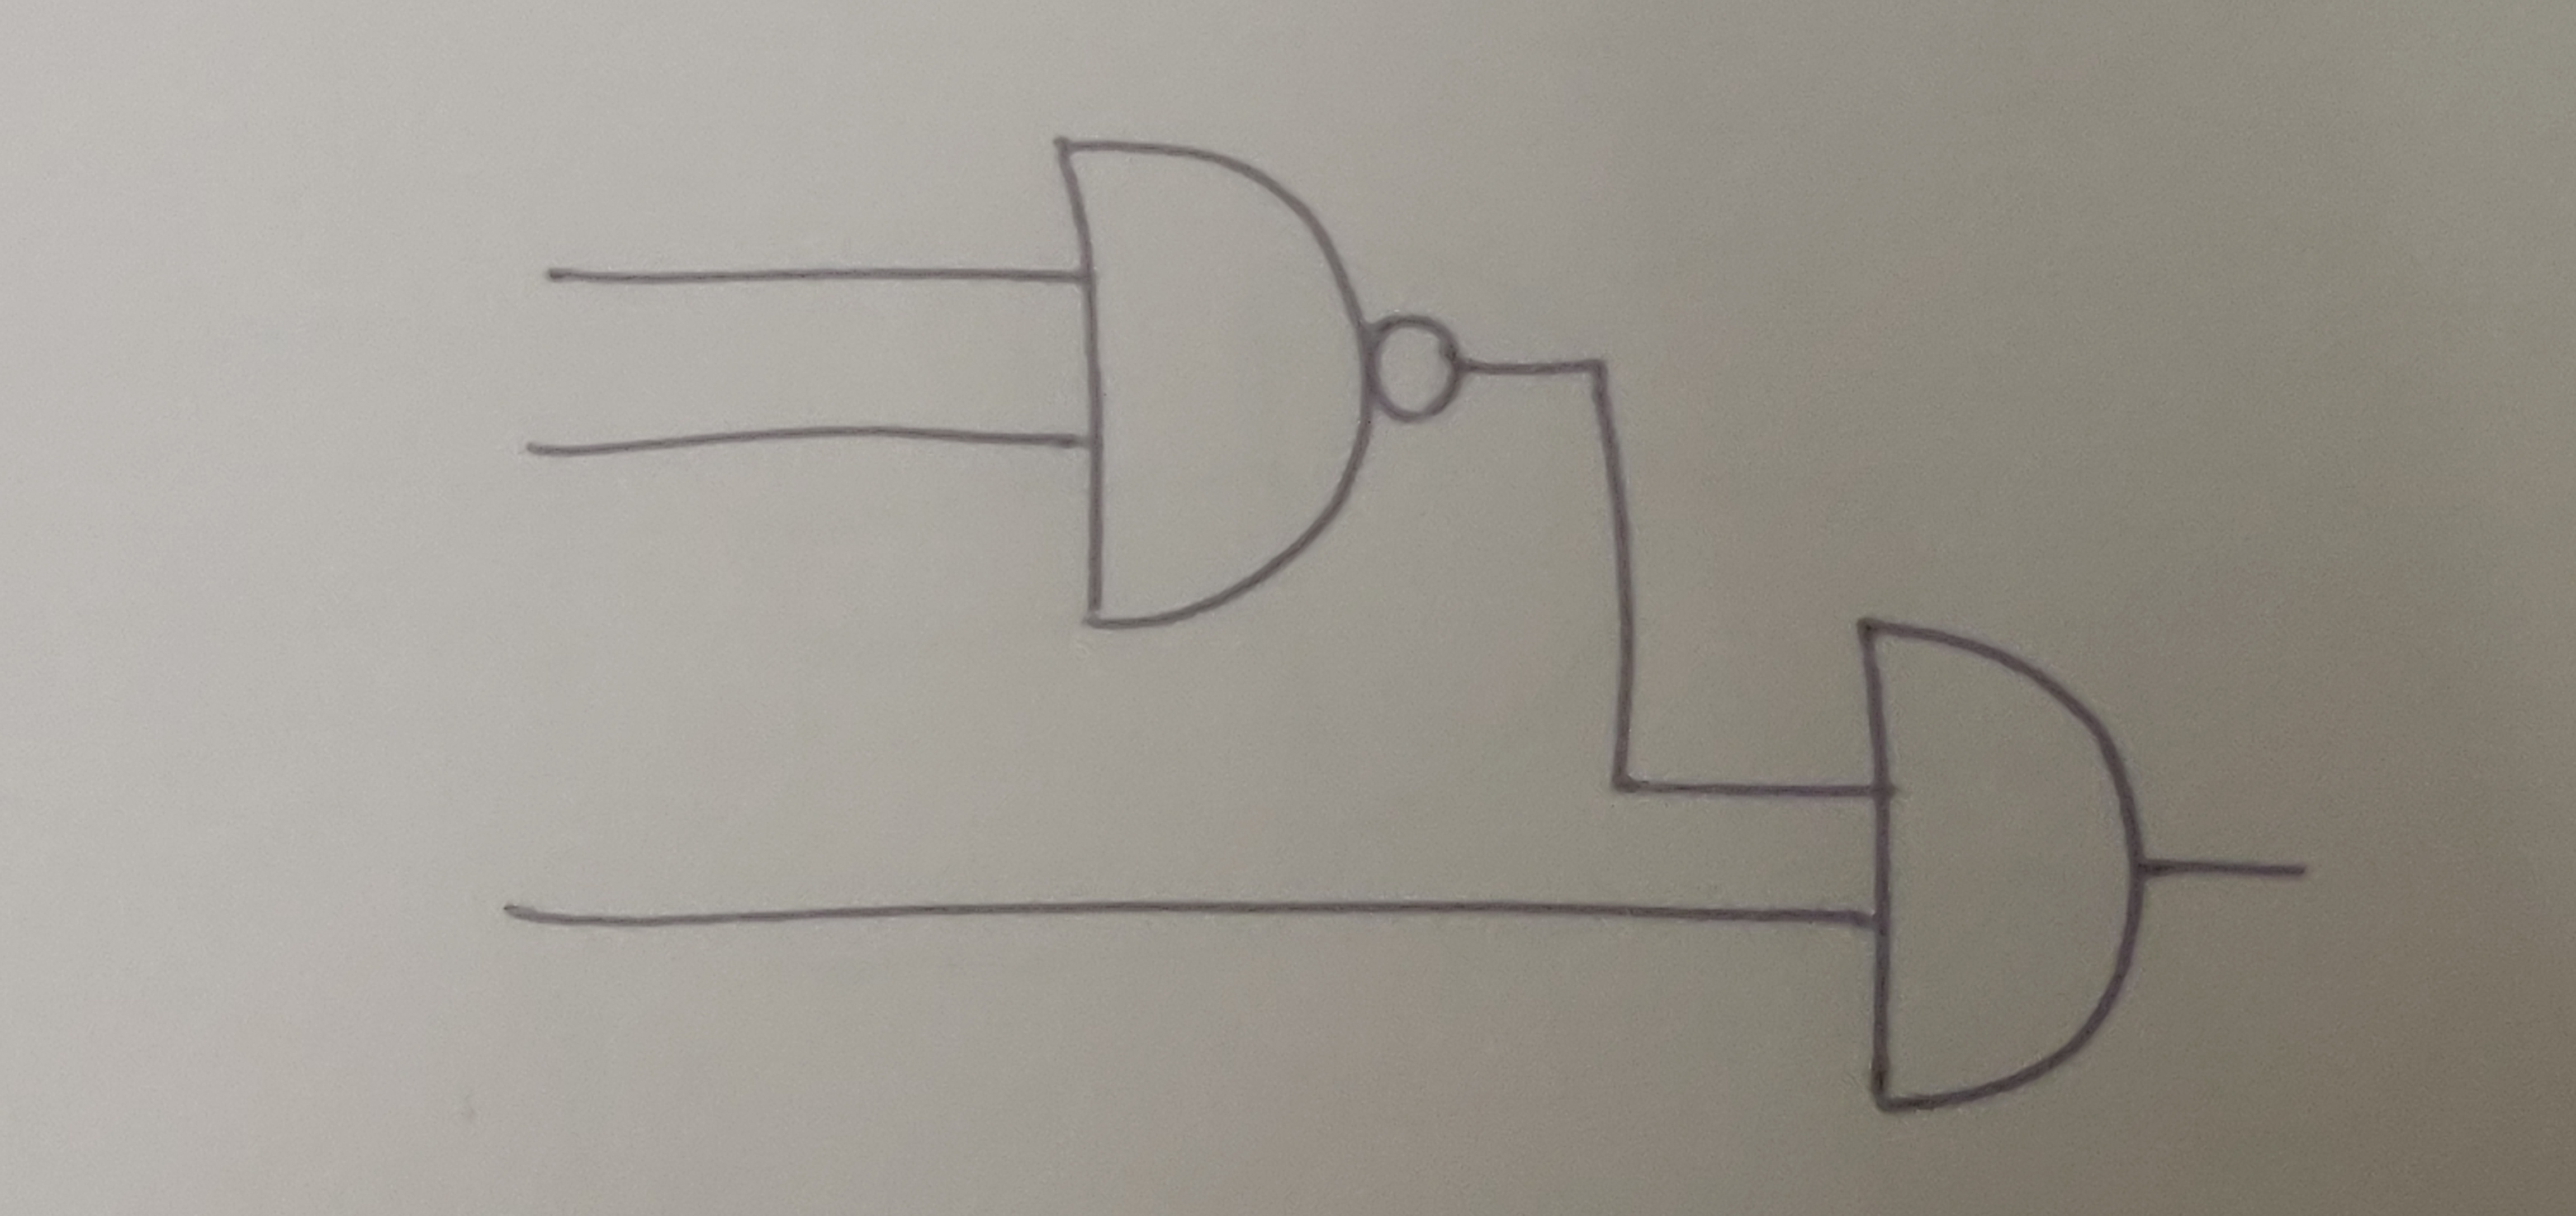and: (1045, 128, 1377, 631), (1850, 608, 2146, 1117)
not: (1367, 312, 1472, 434)
